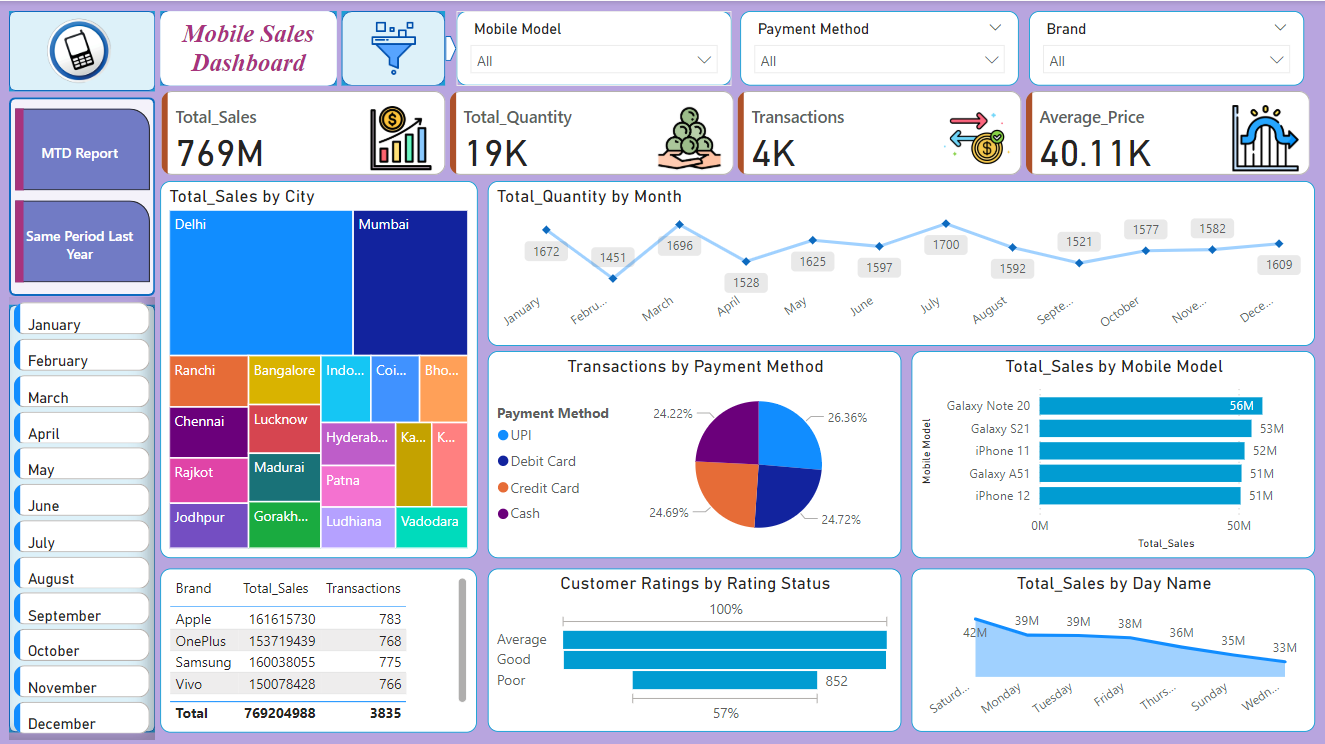

What the dashboard file says about the page in this screenshot:
{"tool":"powerbi","page":{"name":"Dashboard","canvas":[1280,720],"ordinal":0},"visuals":[{"type":"shape","box":[9.7,9.7,141.2,72.4],"z":0},{"type":"image","box":[9.7,9.7,141.2,72.4],"z":1000},{"type":"shape","box":[9.7,92.9,141.2,191.8],"z":2000},{"type":"shape","box":[9.7,293.2,141.2,412.6],"z":3000},{"type":"advancedSlicerVisual","fields":{"Values":["Custom_Calendar.Date.Variation.Date Hierarchy.Month"]},"box":[9.7,285.9,141.2,427.1],"z":4000},{"type":"cardVisual","fields":{"Data":["Sales_Data.Total_Sales","Sales_Data.Total_Quantity","Sales_Data.Transactions","Sales_Data.Average_Price"]},"box":[152.3,82.3,1119.7,91.9],"z":5000},{"type":"slicer","fields":{"Values":["Sales_Data.Mobile Model"]},"box":[441.6,9.7,265.4,72.4],"z":6000},{"type":"slicer","fields":{"Values":["Sales_Data.Payment Method"]},"box":[715.4,9.7,269,72.4],"z":7000},{"type":"shape","box":[330.6,9.7,100.1,72.4],"z":8000},{"type":"slicer","fields":{"Values":["Sales_Data.Brand"]},"box":[994.1,9.7,265.4,72.4],"z":9000},{"type":"image","box":[340.2,14.5,80.8,62.7],"z":10000},{"type":"shape","box":[430.7,33.8,10.9,24.1],"z":11000},{"type":"shape","box":[155.6,9.7,170.1,72.4],"z":12000},{"type":"textbox","box":[155.6,9.7,170.1,72.4],"z":13000},{"type":"map","fields":{"Category":["Sales_Data.City"],"Size":["Sales_Data.Total_Sales"]},"box":[155.1,174.3,306,363.6],"z":14000},{"type":"lineChart","fields":{"Y":["Sales_Data.Total_Quantity"],"Category":["Custom_Calendar.Date.Variation.Date Hierarchy.Month"]},"box":[472,174.3,798.6,159.2],"z":15000},{"type":"funnel","title":"Customer Ratings by Rating Status","fields":{"Y":["CountNonNull(Sales_Data.Customer Ratings)"],"Category":["Sales_Data.Rating Status"]},"box":[472,547.5,399.3,157.8],"z":16000},{"type":"pieChart","fields":{"Y":["Sales_Data.Transactions"],"Category":["Sales_Data.Payment Method"]},"box":[471.7,337.8,399.3,200.3],"z":17000},{"type":"clusteredBarChart","fields":{"Category":["Sales_Data.Mobile Model"],"Y":["Sales_Data.Total_Sales"]},"box":[881,337.6,389.7,200.3],"z":18000},{"type":"areaChart","fields":{"Category":["Custom_Calendar.Day Name"],"Y":["Sales_Data.Total_Sales"]},"box":[881,547.5,389.7,157.8],"z":19000},{"type":"tableEx","fields":{"Values":["Sales_Data.Brand","Sales_Data.Total_Sales","Sales_Data.Transactions"]},"box":[155.6,547.7,305.2,158],"z":20000},{"type":"pageNavigator","box":[15.7,103.8,130.3,168.9],"z":21000}]}

Visuals, with their boxes in screenshot pixels (x1, y1, x2, y2), scaled from the page's 1280x720 canvas onto the 1325x744 screenshot:
shape: <region>10, 10, 156, 85</region>
image: <region>10, 10, 156, 85</region>
shape: <region>10, 96, 156, 294</region>
shape: <region>10, 303, 156, 729</region>
advancedSlicerVisual - Custom_Calendar.Date.Variation.Date Hierarchy.Month: <region>10, 295, 156, 737</region>
cardVisual - Sales_Data.Total_Sales x Sales_Data.Total_Quantity: <region>158, 85, 1317, 180</region>
slicer - Sales_Data.Mobile Model: <region>457, 10, 732, 85</region>
slicer - Sales_Data.Payment Method: <region>741, 10, 1019, 85</region>
shape: <region>342, 10, 446, 85</region>
slicer - Sales_Data.Brand: <region>1029, 10, 1304, 85</region>
image: <region>352, 15, 436, 80</region>
shape: <region>446, 35, 457, 60</region>
shape: <region>161, 10, 337, 85</region>
textbox: <region>161, 10, 337, 85</region>
map - Sales_Data.City x Sales_Data.Total_Sales: <region>161, 180, 477, 556</region>
lineChart - Sales_Data.Total_Quantity x Custom_Calendar.Date.Variation.Date Hierarchy.Month: <region>489, 180, 1315, 345</region>
"Customer Ratings by Rating Status" funnel: <region>489, 566, 902, 729</region>
pieChart - Sales_Data.Transactions x Sales_Data.Payment Method: <region>488, 349, 902, 556</region>
clusteredBarChart - Sales_Data.Mobile Model x Sales_Data.Total_Sales: <region>912, 349, 1315, 556</region>
areaChart - Custom_Calendar.Day Name x Sales_Data.Total_Sales: <region>912, 566, 1315, 729</region>
tableEx - Sales_Data.Brand x Sales_Data.Total_Sales: <region>161, 566, 477, 729</region>
pageNavigator: <region>16, 107, 151, 282</region>
